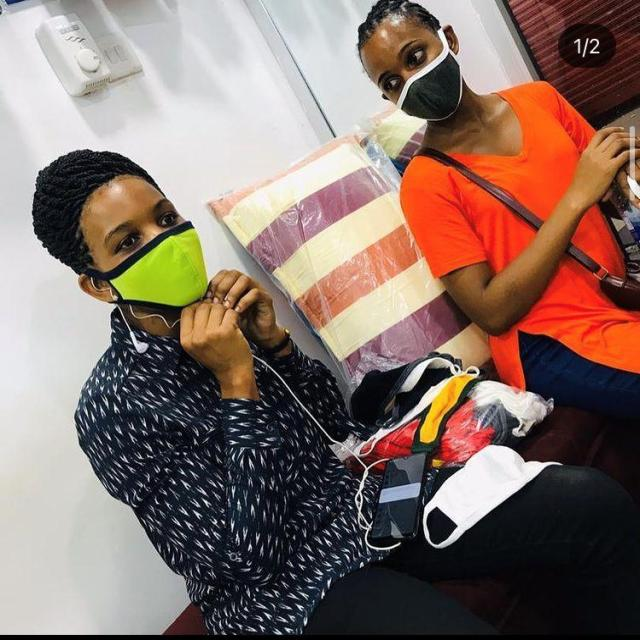Mask: (86, 180, 212, 306), (358, 24, 462, 121)
